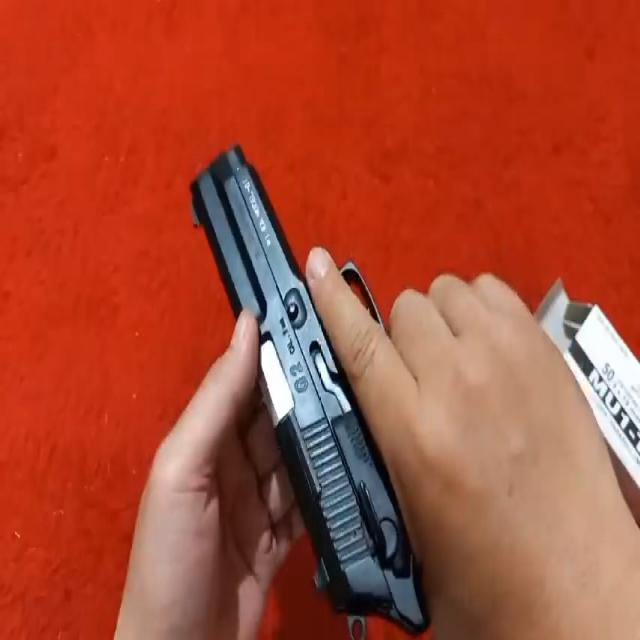handgun: (177, 129, 439, 640)
